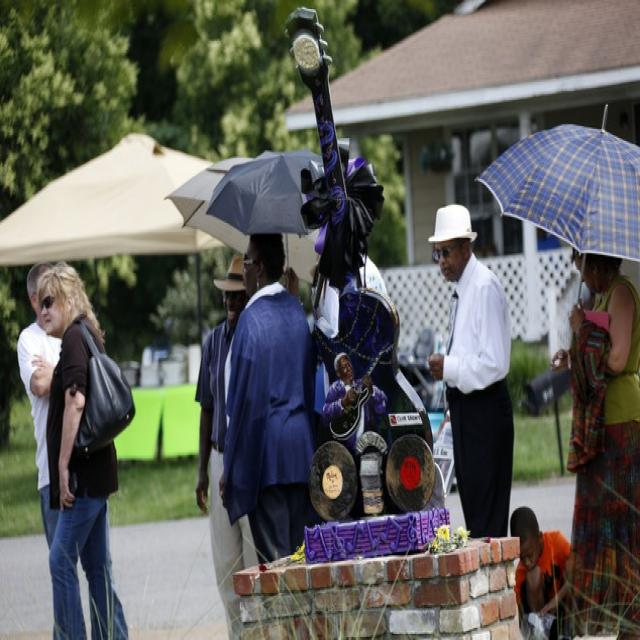body: (31, 255, 140, 638), (550, 218, 639, 638), (217, 229, 320, 564), (424, 202, 517, 543), (194, 247, 260, 640), (16, 261, 65, 555), (321, 348, 389, 516), (506, 503, 573, 640)
